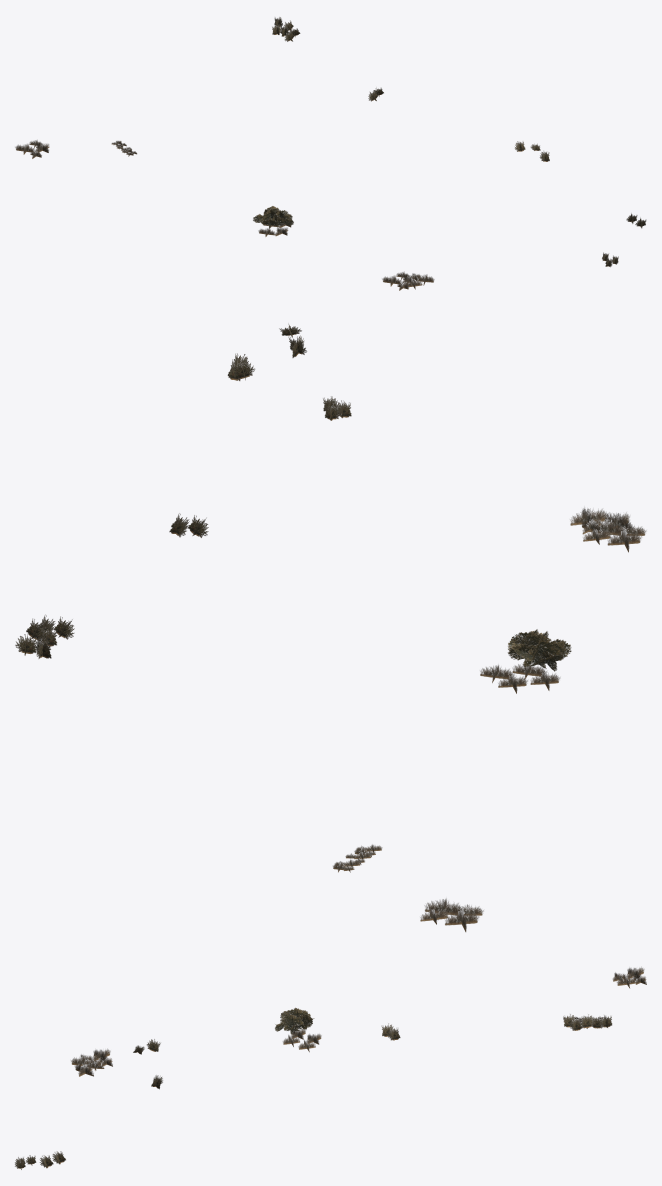
The model's file is 0506worlddeserttransparent_worlddeserttransparentmaterial_0_lev.glb.
3 views of the same model, one above another, from view 1: azimuth 30°, elevation 25°; view 2: azimuth 150°, elevation 25°; view 3: azimuth 270°, elevation 25° (orthographic). The views are drawn at different scales.
Visible parts, largest first — view 1: 0506worlddeserttransparent_worlddeserttransparentmaterial_0_; view 2: 0506worlddeserttransparent_worlddeserttransparentmaterial_0_; view 3: 0506worlddeserttransparent_worlddeserttransparentmaterial_0_.
Boxes of the visible parts, x1,y1,x2,y2 form: 0506worlddeserttransparent_worlddeserttransparentmaterial_0_: (15,17,646,290); 0506worlddeserttransparent_worlddeserttransparentmaterial_0_: (15,323,646,931); 0506worlddeserttransparent_worlddeserttransparentmaterial_0_: (15,966,646,1169).
Bounding box in the file's own units: 25.03 × 5.96 × 30.79.
Materials: 1 (1 with a texture image).
